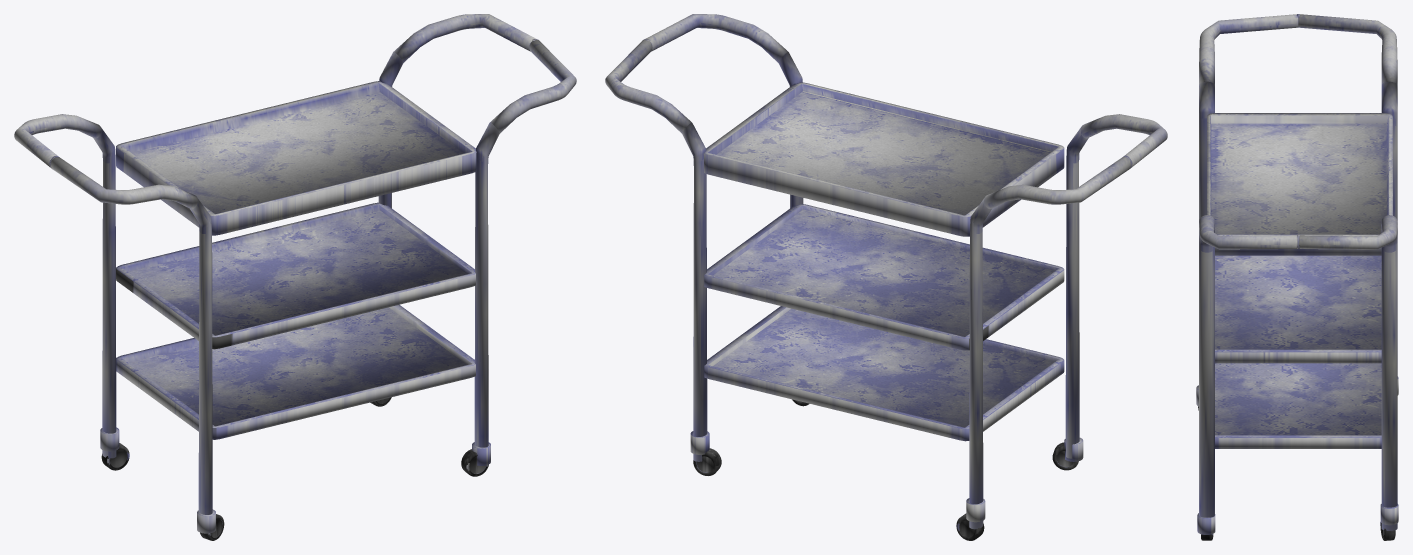
Rendered from wozek.glb.
3 views of the same model, side by side, from view 1: azimuth 30°, elevation 25°; view 2: azimuth 150°, elevation 25°; view 3: azimuth 270°, elevation 25° (orthographic). The views are drawn at different scales.
Parts seen in each view (by area): view 1: Cylinder.254; view 2: Cylinder.254; view 3: Cylinder.254.
Part boxes in pixels (bbox=[...]): Cylinder.254: bbox=[14, 14, 576, 540]; Cylinder.254: bbox=[605, 14, 1167, 540]; Cylinder.254: bbox=[1196, 14, 1398, 540].
Size of the model in its own units: 1.29 by 0.9344 by 0.4842.
1 material, 1 textured.
